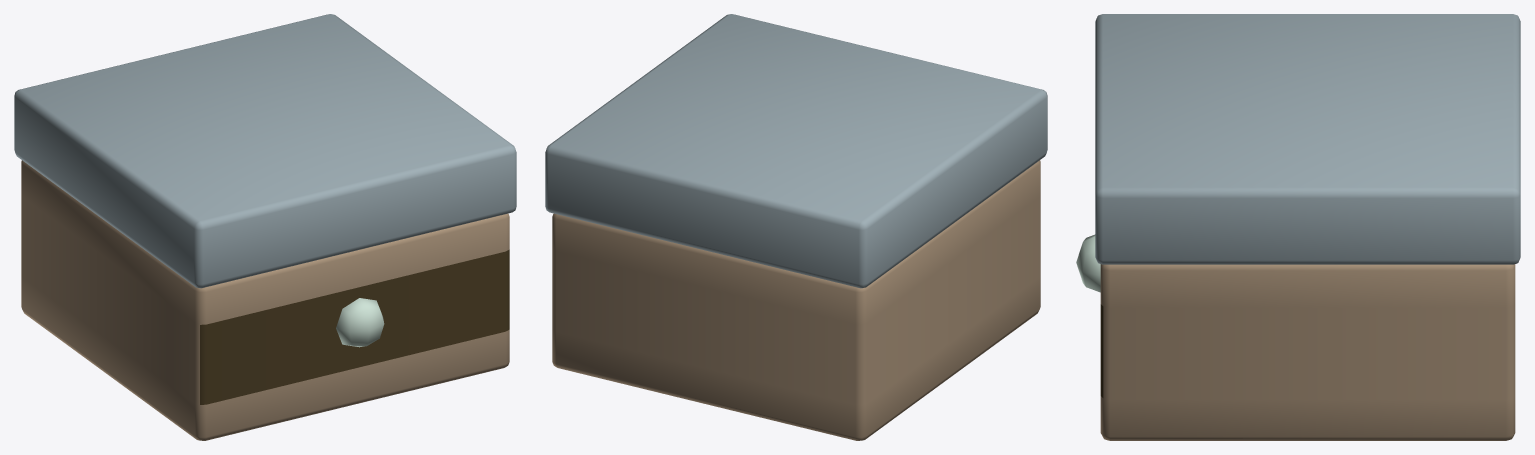
The model's file is PlateTable.fbx.
3 views of the same model, side by side, from view 1: azimuth 30°, elevation 25°; view 2: azimuth 150°, elevation 25°; view 3: azimuth 270°, elevation 25° (orthographic). The views are drawn at different scales.
Visible parts, largest first — view 1: PlateTable; view 2: PlateTable; view 3: PlateTable.
Boxes of the visible parts, x1,y1,x2,y2 form: PlateTable: [14, 14, 516, 440]; PlateTable: [545, 14, 1047, 440]; PlateTable: [1076, 14, 1520, 440].
Bounding box in the file's own units: 1 × 0.664 × 1.04.
